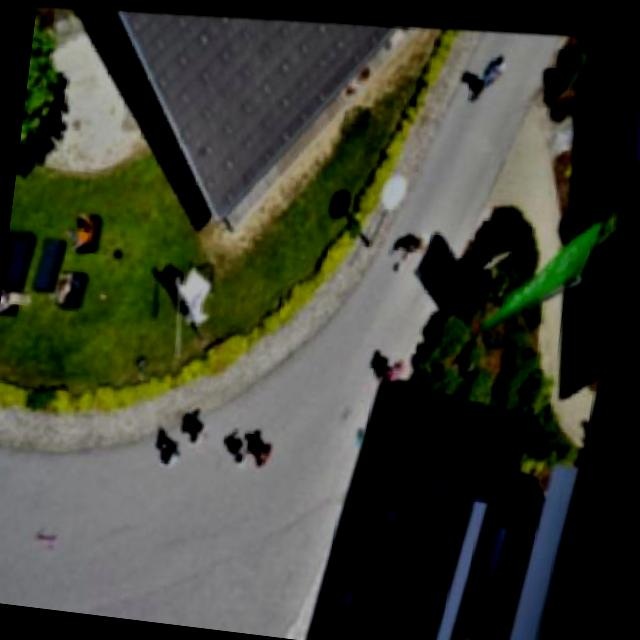Person: (461, 40, 519, 110), (398, 220, 446, 264), (1, 269, 47, 312), (161, 418, 201, 465), (380, 348, 423, 389), (74, 196, 106, 248), (59, 258, 90, 304), (194, 408, 227, 450), (238, 424, 270, 466), (260, 427, 290, 470)
